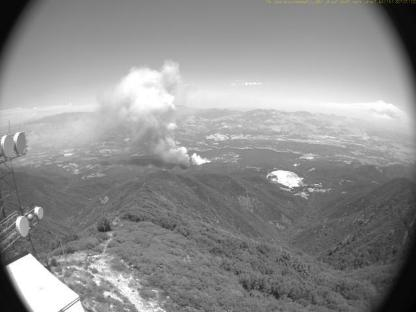smoke: (80, 55, 216, 168)
